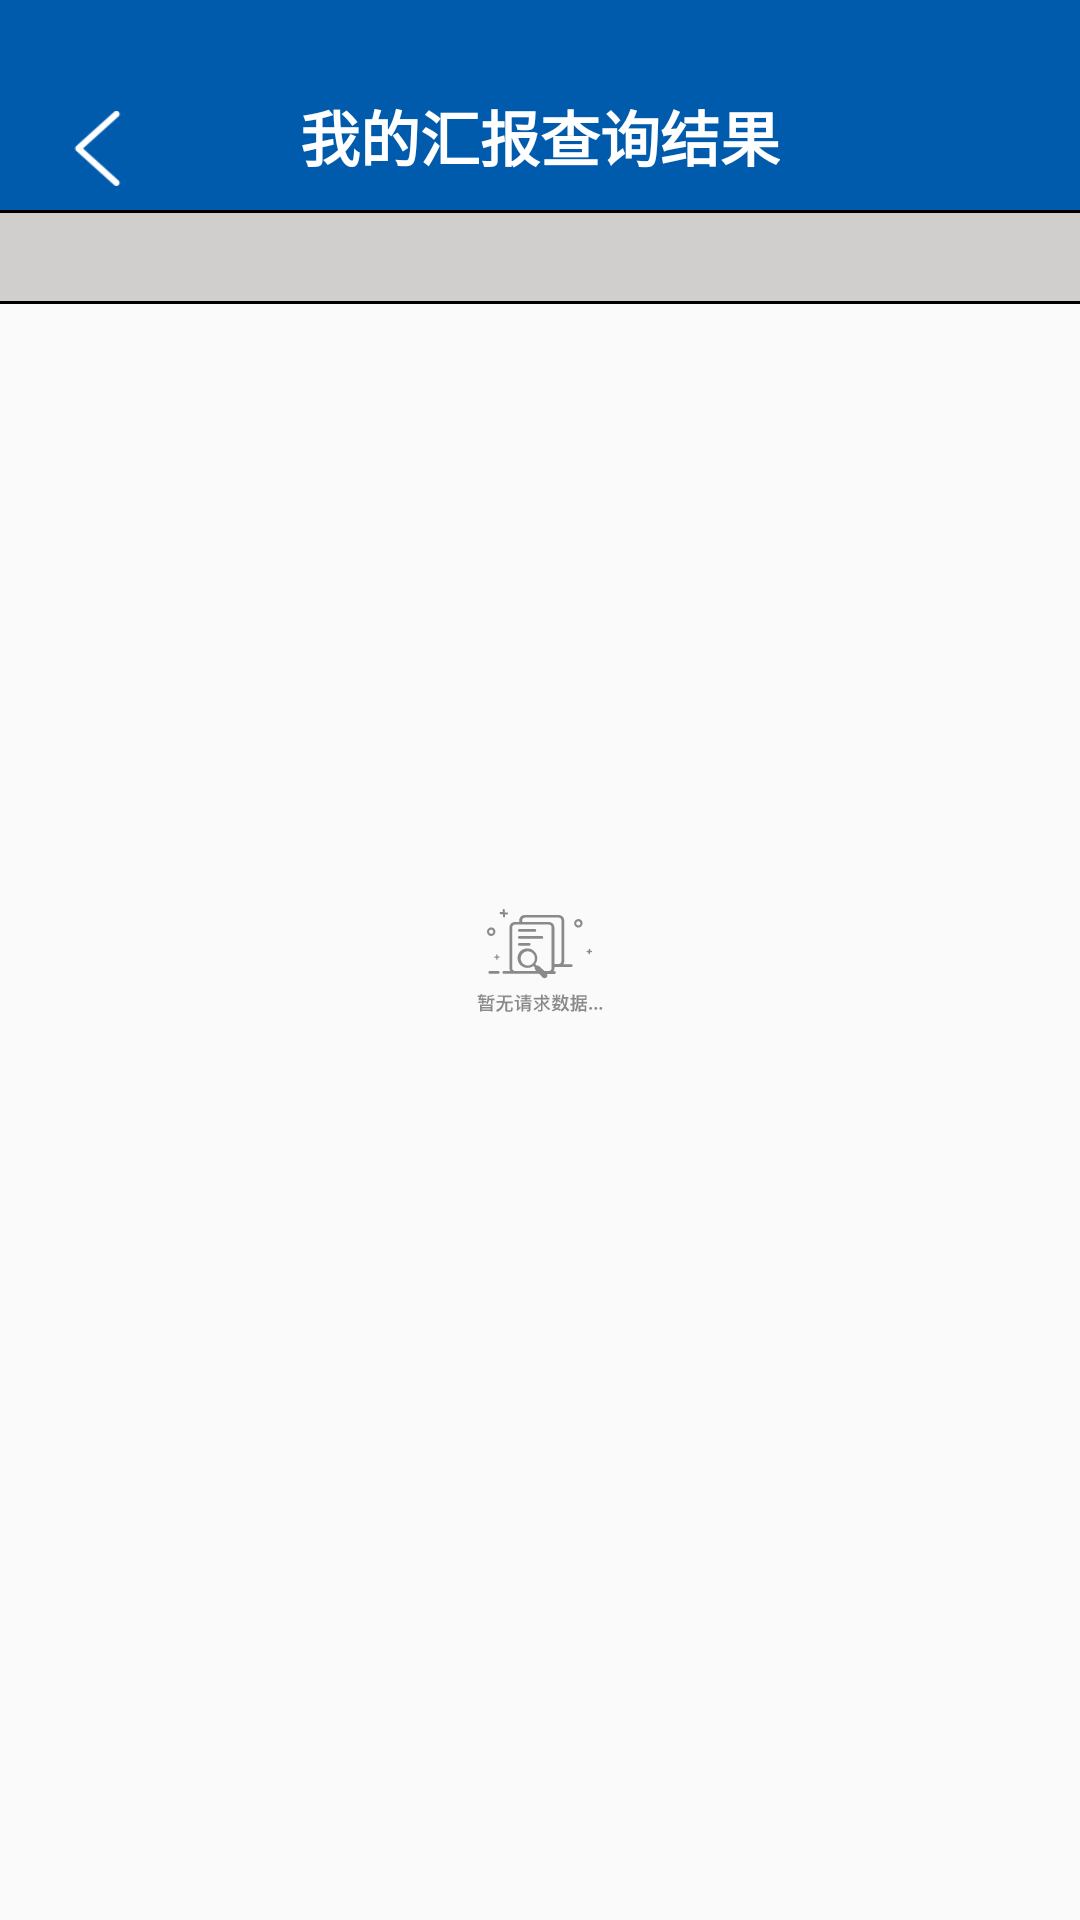

Locate icon controls on the screen. Image size 1080x1920, boxes as detection(x1, y1, x2, y2).
huibao fanhui: detection(74, 111, 120, 186)
